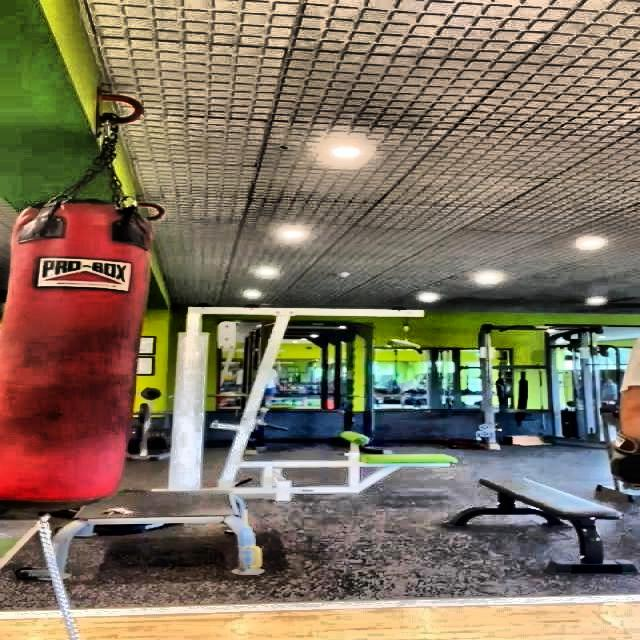boxing-bag: (0, 88, 145, 518)
